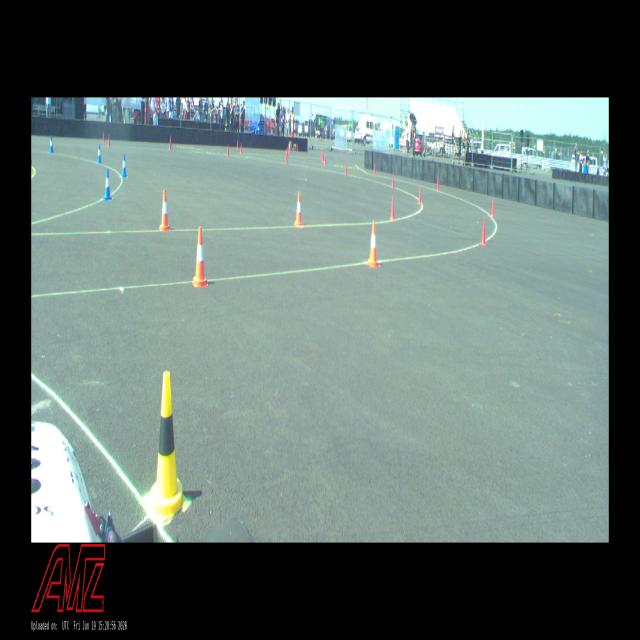blue_cone: (104, 168, 112, 201), (121, 154, 127, 177), (97, 144, 102, 164), (49, 135, 54, 152)
orange_cone: (192, 227, 208, 287), (367, 221, 379, 267), (159, 190, 170, 231), (294, 192, 303, 226)
yellow_cone: (146, 371, 188, 523), (32, 153, 34, 176)
